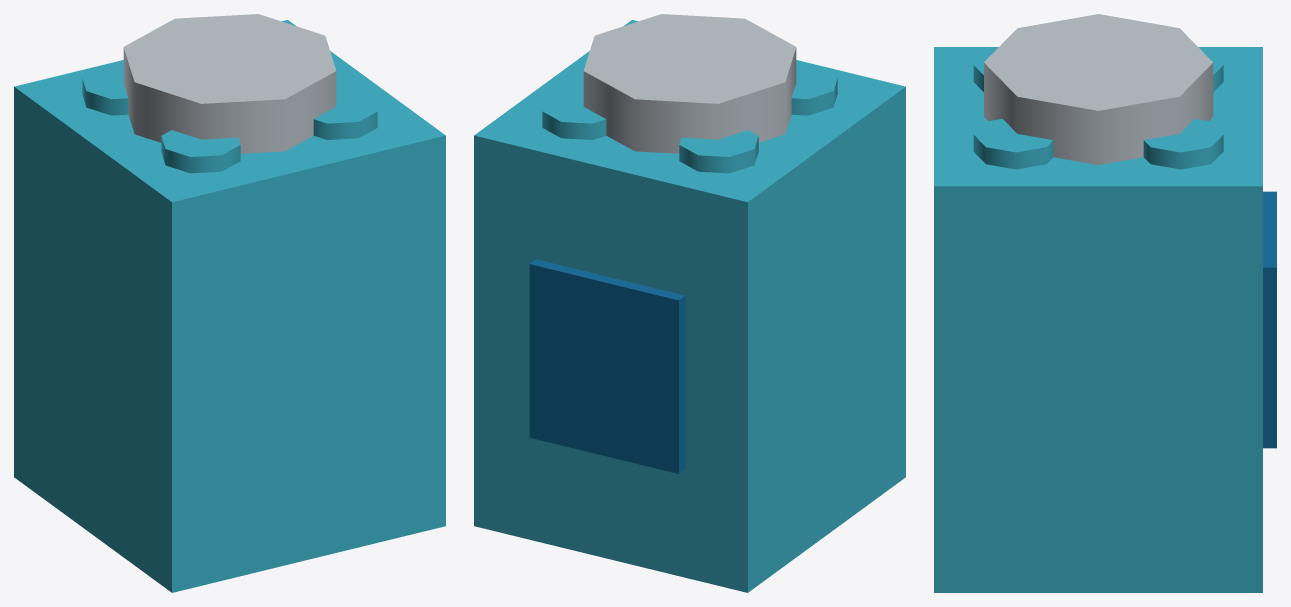
Rendered from LegoShieldBig.glb.
The picture shows the model from 3 angles, left to right: view 1: azimuth 30°, elevation 25°; view 2: azimuth 150°, elevation 25°; view 3: azimuth 270°, elevation 25°; orthographic projection. The views are drawn at different scales.
Parts seen in each view (by area): view 1: LegoShieldBig; view 2: LegoShieldBig; view 3: LegoShieldBig.
Part boxes in pixels (left/top/right/bottom): LegoShieldBig: left=14, top=14, right=445, bottom=592; LegoShieldBig: left=474, top=14, right=905, bottom=592; LegoShieldBig: left=934, top=14, right=1276, bottom=592.
Bounding box in the file's own units: 0.297 × 0.459 × 0.3095.
